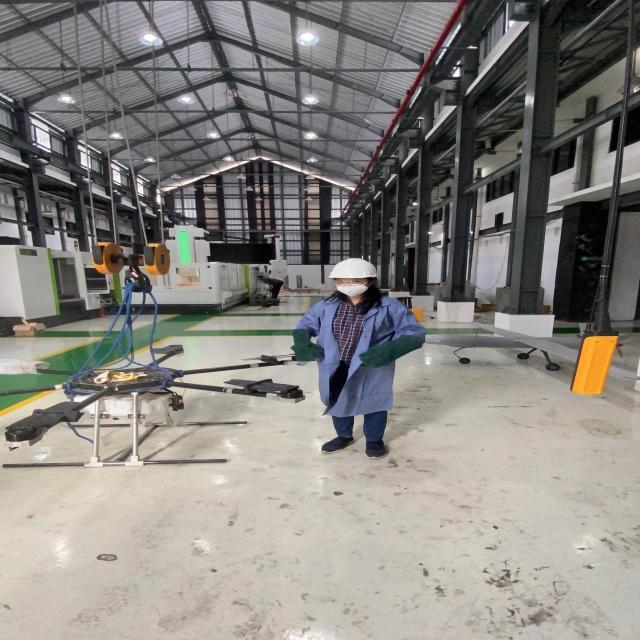glasses: (332, 278, 368, 288)
